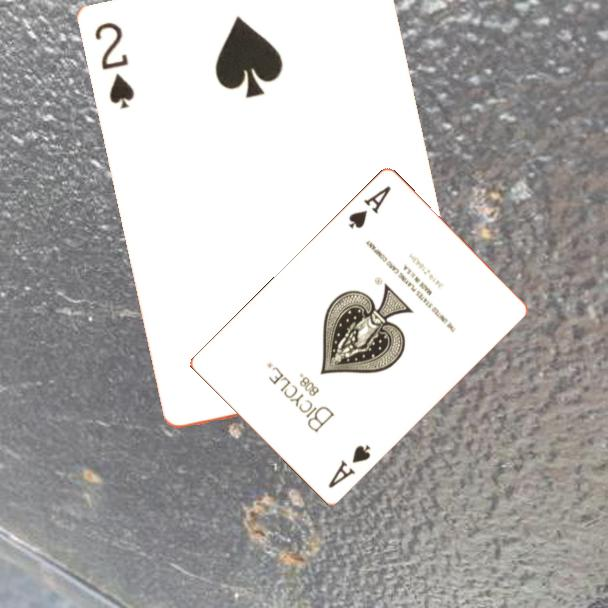s01: (324, 441, 374, 492), (345, 183, 394, 232)
s02: (92, 19, 138, 112)
